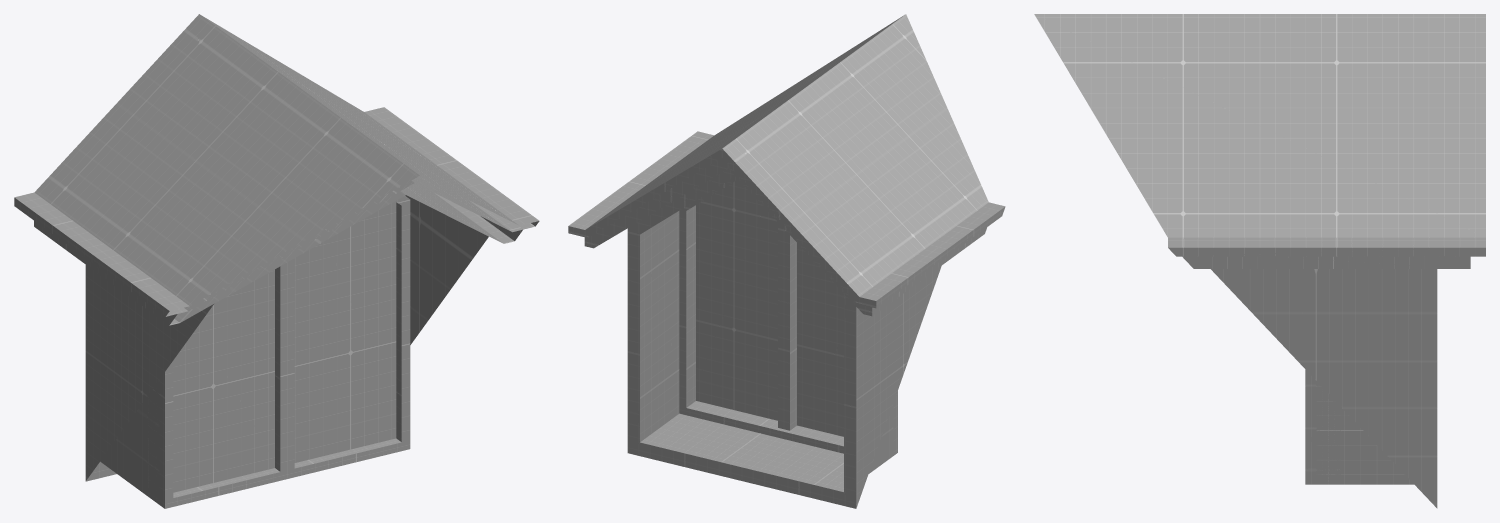
Rendered from HighRoof.001.fbx.
3 renders of one model, left to right at view 1: azimuth 30°, elevation 25°; view 2: azimuth 150°, elevation 25°; view 3: azimuth 270°, elevation 25°, orthographic. The views are drawn at different scales.
Visible parts, largest first — view 1: HighRoof.001; view 2: HighRoof.001; view 3: HighRoof.001.
Boxes of the visible parts, x1,y1,x2,y2 form: HighRoof.001: [14, 14, 539, 508]; HighRoof.001: [568, 14, 1005, 508]; HighRoof.001: [1034, 14, 1485, 508].
Bounding box in the file's own units: 269 × 290 × 278.
